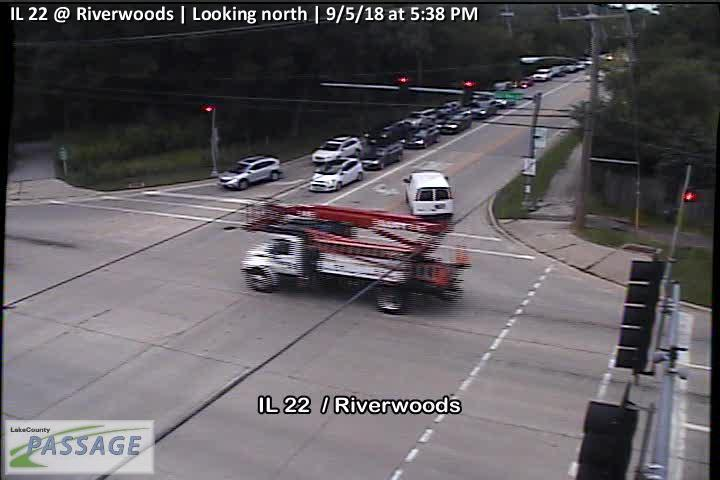SUV: (403, 169, 455, 218), (217, 155, 282, 191), (308, 158, 364, 193), (311, 136, 363, 165), (533, 69, 553, 82)
Sedan: (361, 143, 404, 171), (403, 127, 439, 149), (441, 113, 471, 134), (366, 130, 400, 147), (472, 106, 497, 119), (519, 77, 533, 88)
Truck: (241, 233, 422, 313)
